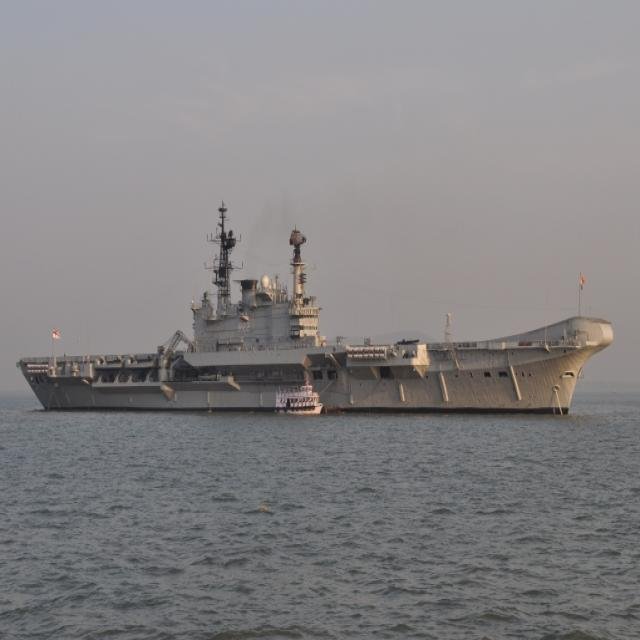Portanaves: (15, 195, 619, 418)
